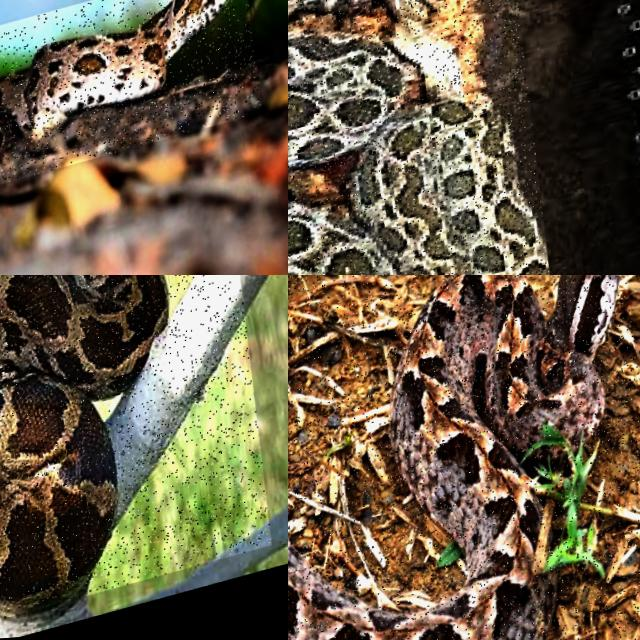Calloselasma rhodostoma: (288, 275, 618, 639)
Daboia siamensis: (288, 30, 549, 274), (0, 0, 227, 153)
Python bivittatus: (0, 275, 168, 614)
snake: (288, 275, 618, 639), (288, 30, 549, 274), (0, 275, 168, 614), (0, 0, 227, 153)
